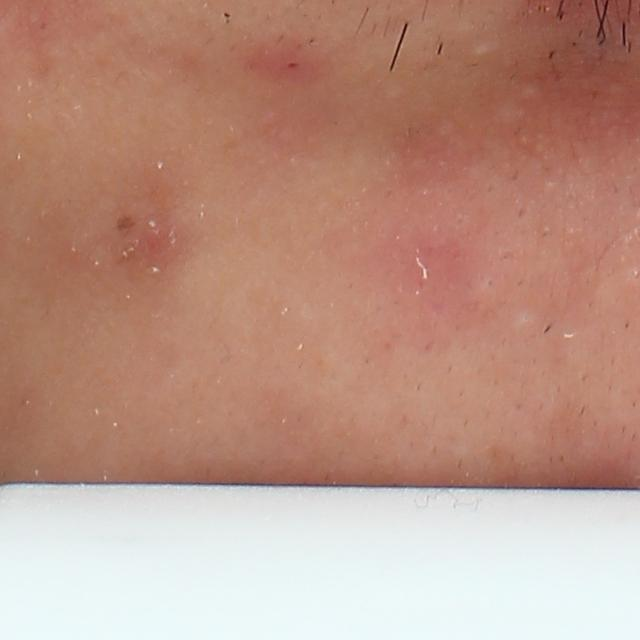hypertrophic_scar: (468, 276, 501, 318), (511, 309, 541, 337), (473, 39, 500, 54)
